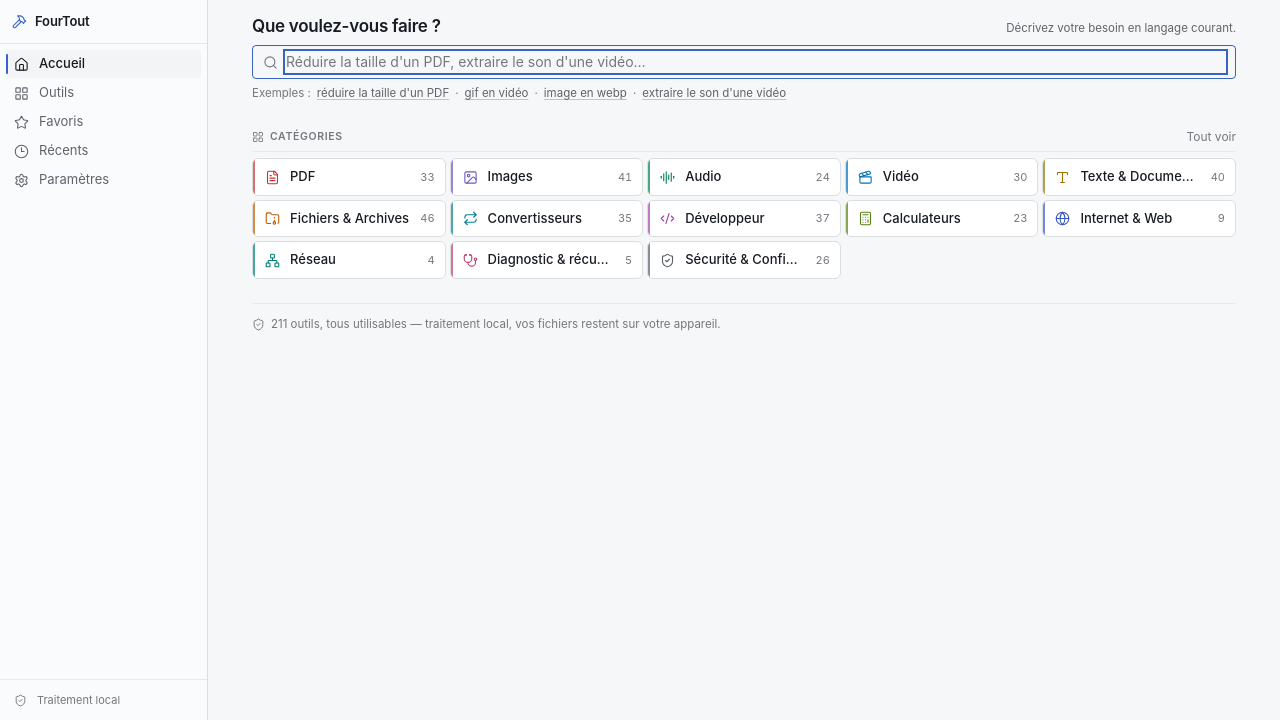
Test: navigation principale › navigue de l'accueil vers la page Outils
Step 1. Click the link "Outils" → (44, 92), box top-left (14, 84), bottom-right (74, 101)
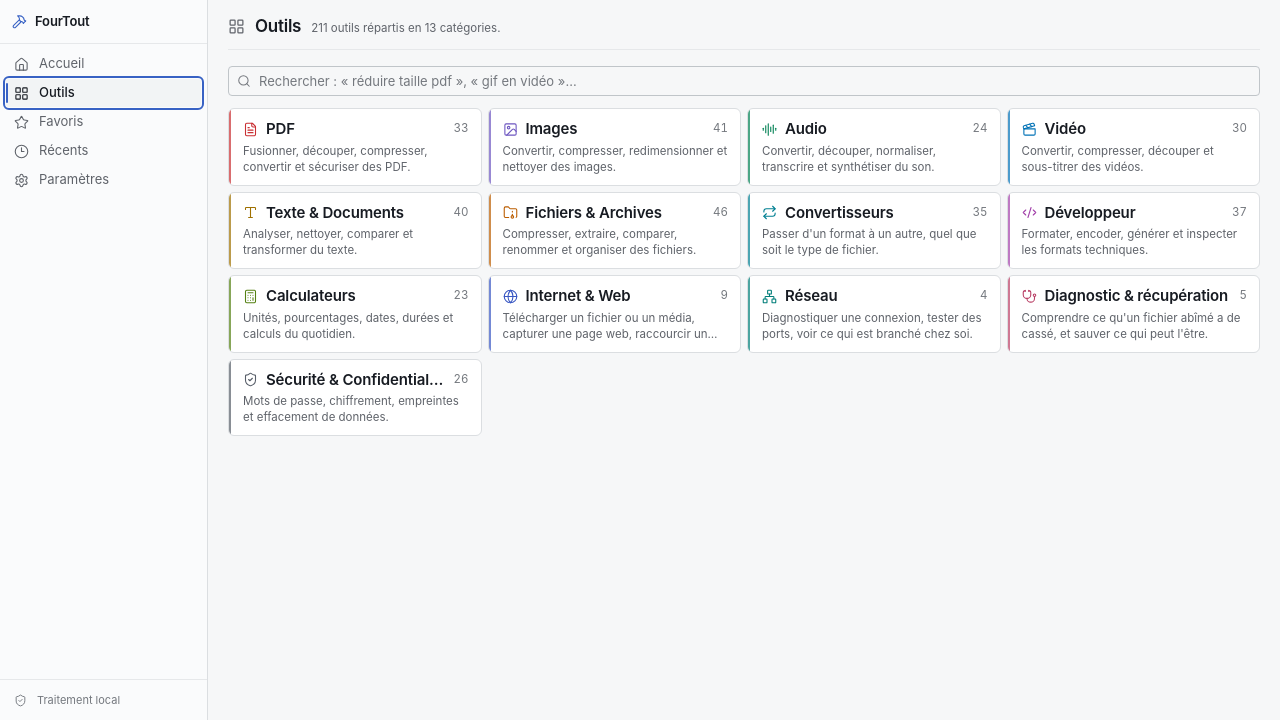
Expected: the heading "Outils" is shown, top-left (255, 16), bottom-right (301, 37)
